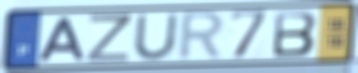7: (229, 9, 271, 62)
A: (35, 16, 87, 63)
B: (271, 9, 319, 58)
R: (175, 9, 227, 63)
U: (131, 12, 180, 62)
Z: (85, 13, 134, 64)
